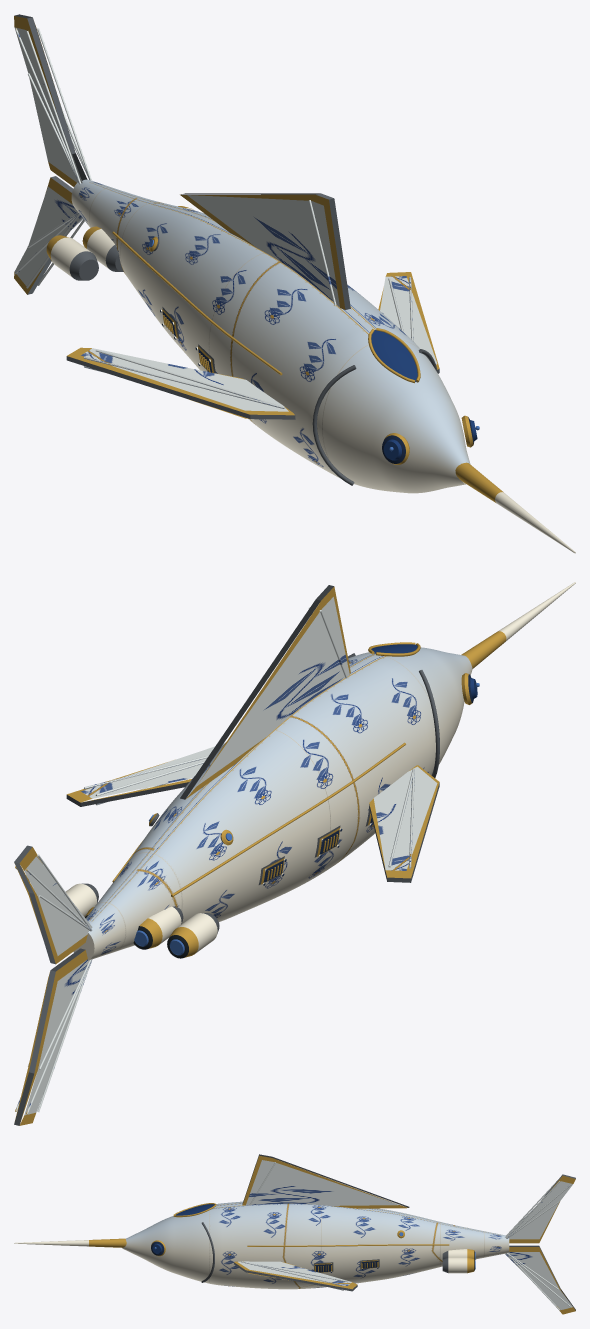
3 views of the same model, one above another, from view 1: azimuth 30°, elevation 25°; view 2: azimuth 150°, elevation 25°; view 3: azimuth 270°, elevation 25° (orthographic). The views are drawn at different scales.
Visible parts, largest first — view 1: marlin_hull; view 2: marlin_hull; view 3: marlin_hull.
Part boxes in pixels (bbox=[...]): marlin_hull: bbox=[14, 14, 575, 553]; marlin_hull: bbox=[14, 582, 575, 1125]; marlin_hull: bbox=[14, 1154, 575, 1314].
Bounding box in the file's own units: 92.3 × 80.93 × 259.
Materials: 1 (1 with a texture image).
